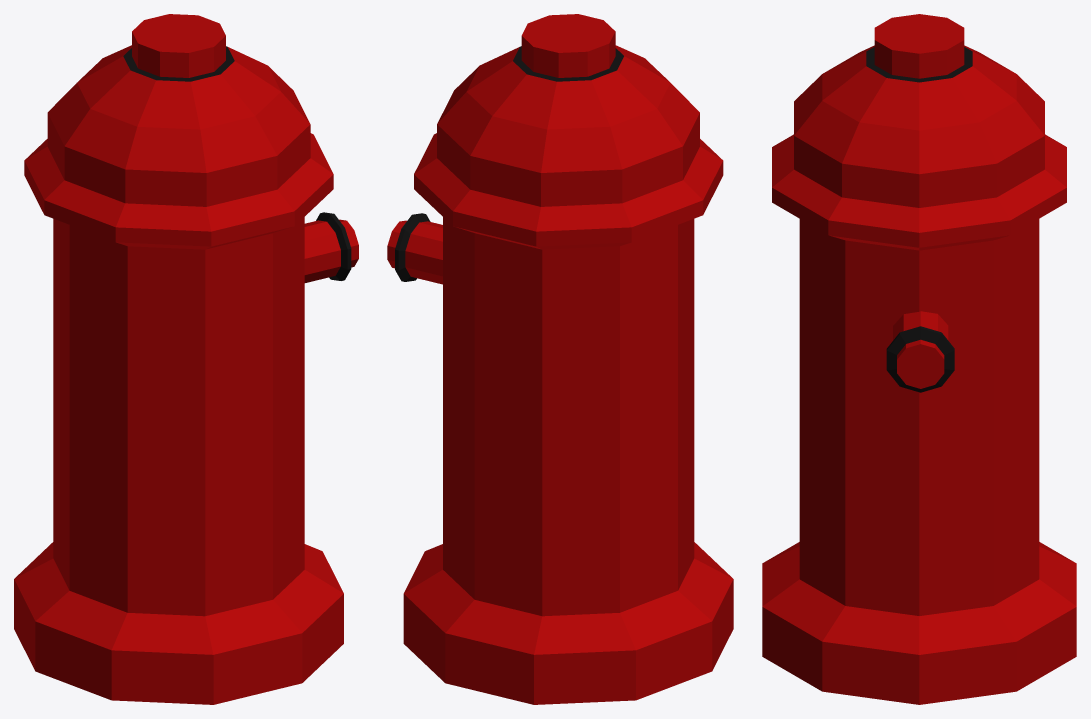
The model's file is FireHydrant.FBX.
The picture shows the model from 3 angles, left to right: view 1: azimuth 30°, elevation 25°; view 2: azimuth 150°, elevation 25°; view 3: azimuth 270°, elevation 25°; orthographic projection.
Parts seen in each view (by area): view 1: Fire Hydrant; view 2: Fire Hydrant; view 3: Fire Hydrant.
Boxes of the visible parts, x1,y1,x2,y2 form: Fire Hydrant: (14, 14, 358, 704); Fire Hydrant: (387, 14, 733, 704); Fire Hydrant: (762, 14, 1076, 704).
Bounding box in the file's own units: 52.12 × 96.14 × 45.59.
